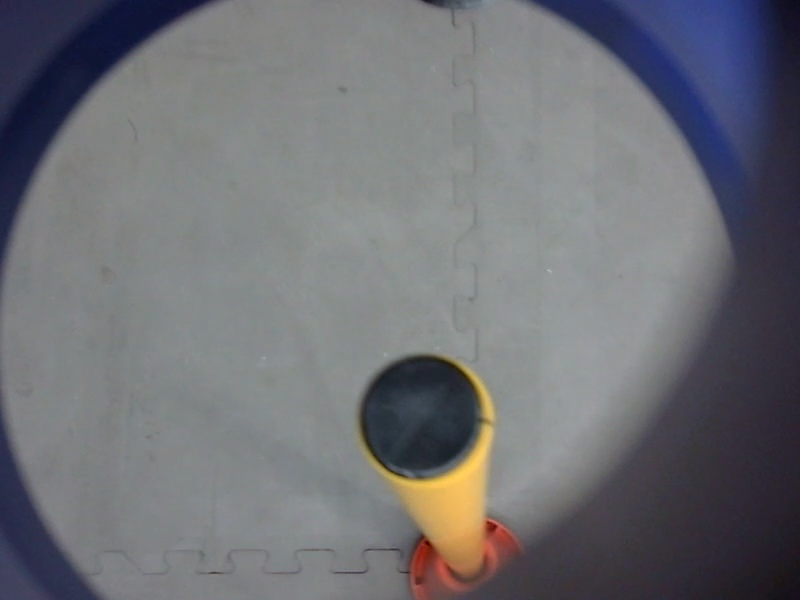tip: (344, 340, 507, 494)
